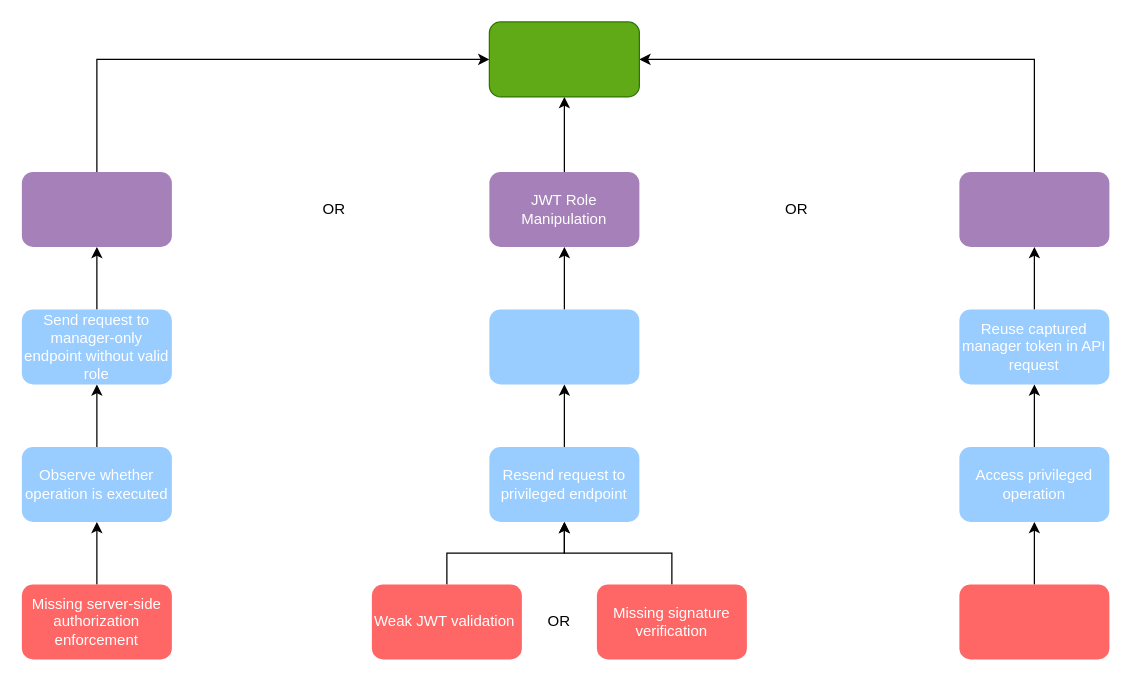
This 1130x681 diagram has some shape labels left out. Each missing label, with the centre of its shape:
"Direct Unauthorized Access" belongs at pixel 96 208.
"Gain unauthorized access to manager endpoints" belongs at pixel 563 59.
"Lack of token expiration or revocation" belongs at pixel 1034 621.
"Modify role claim in authentication token" belongs at pixel 564 346.
"Token Reuse Attack" belongs at pixel 1034 208.
